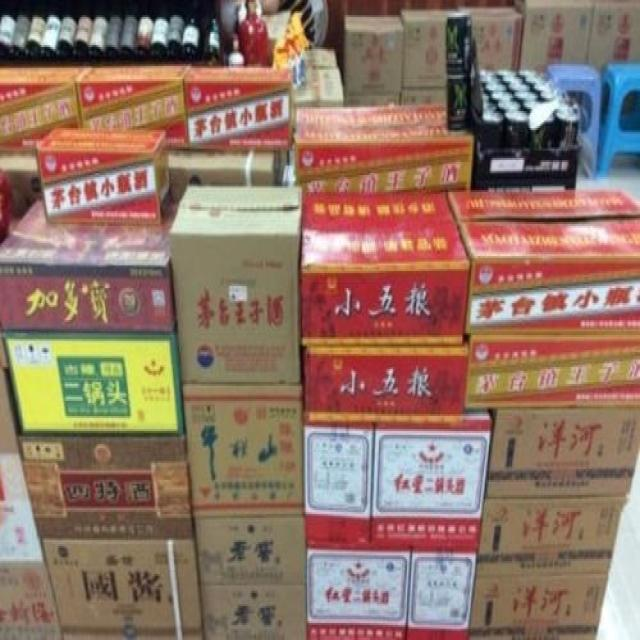box: (448, 188, 640, 333), (168, 186, 301, 382), (301, 190, 470, 344), (0, 200, 182, 331), (1, 333, 184, 435), (18, 435, 195, 538), (41, 538, 205, 640), (371, 410, 492, 544), (182, 384, 303, 516), (296, 104, 474, 192), (486, 407, 640, 495), (36, 126, 170, 226), (303, 348, 468, 427), (466, 335, 640, 408), (475, 497, 626, 574), (307, 542, 410, 640), (76, 66, 189, 147), (184, 66, 292, 149), (470, 576, 609, 640), (303, 424, 372, 542), (0, 66, 92, 152), (195, 516, 307, 585), (406, 544, 477, 640), (201, 584, 307, 640), (169, 151, 288, 200), (517, 0, 591, 75), (0, 561, 63, 640), (0, 454, 45, 561), (344, 15, 403, 92), (399, 9, 456, 87), (460, 6, 522, 68), (588, 0, 639, 72), (0, 152, 42, 216), (296, 68, 344, 105), (0, 369, 20, 454), (307, 47, 337, 68), (402, 90, 447, 104), (346, 94, 399, 105)
